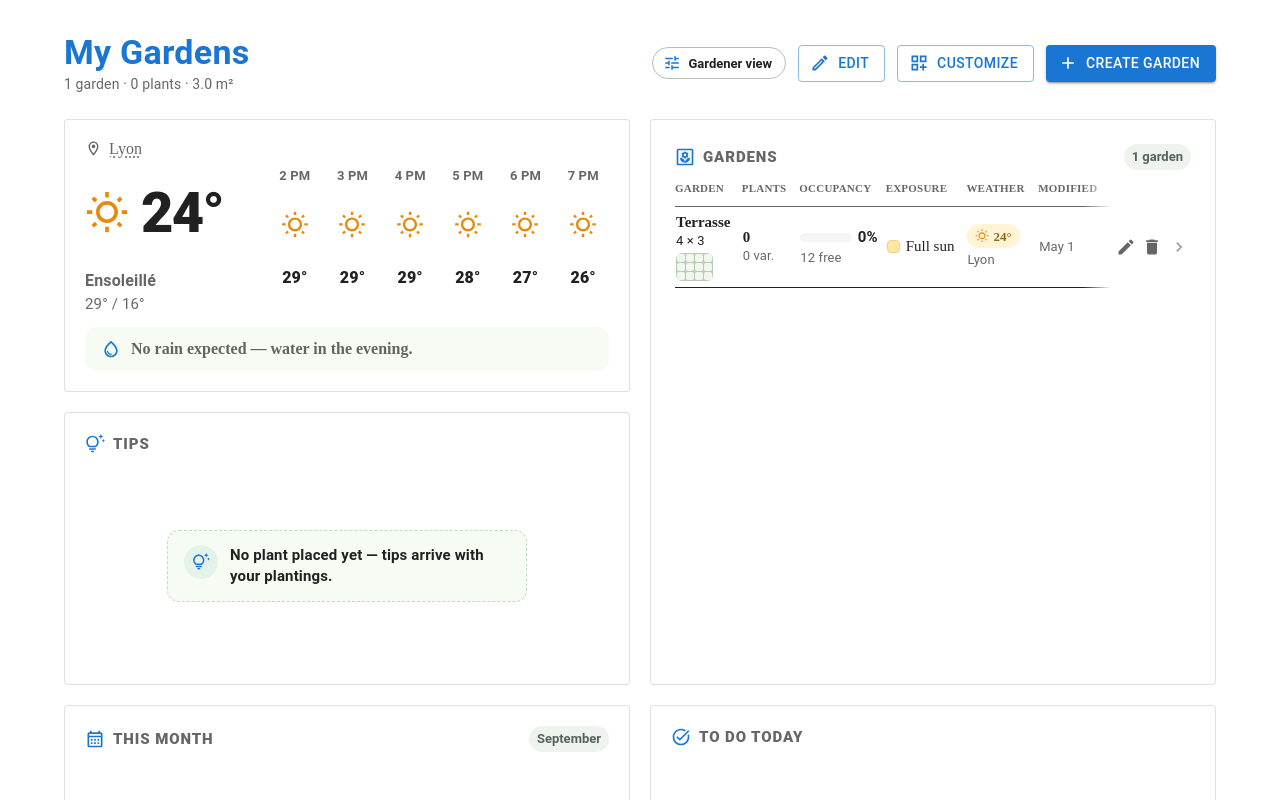
Test: GardensDashboard — Edit mode chrome (SMA-336) › the Weather gear says a default EXISTS when every garden overrides it, not « no place saved » (round 2, D5)
Click the button "Edit": {"x": 842, "y": 63} [798, 45, 885, 82]
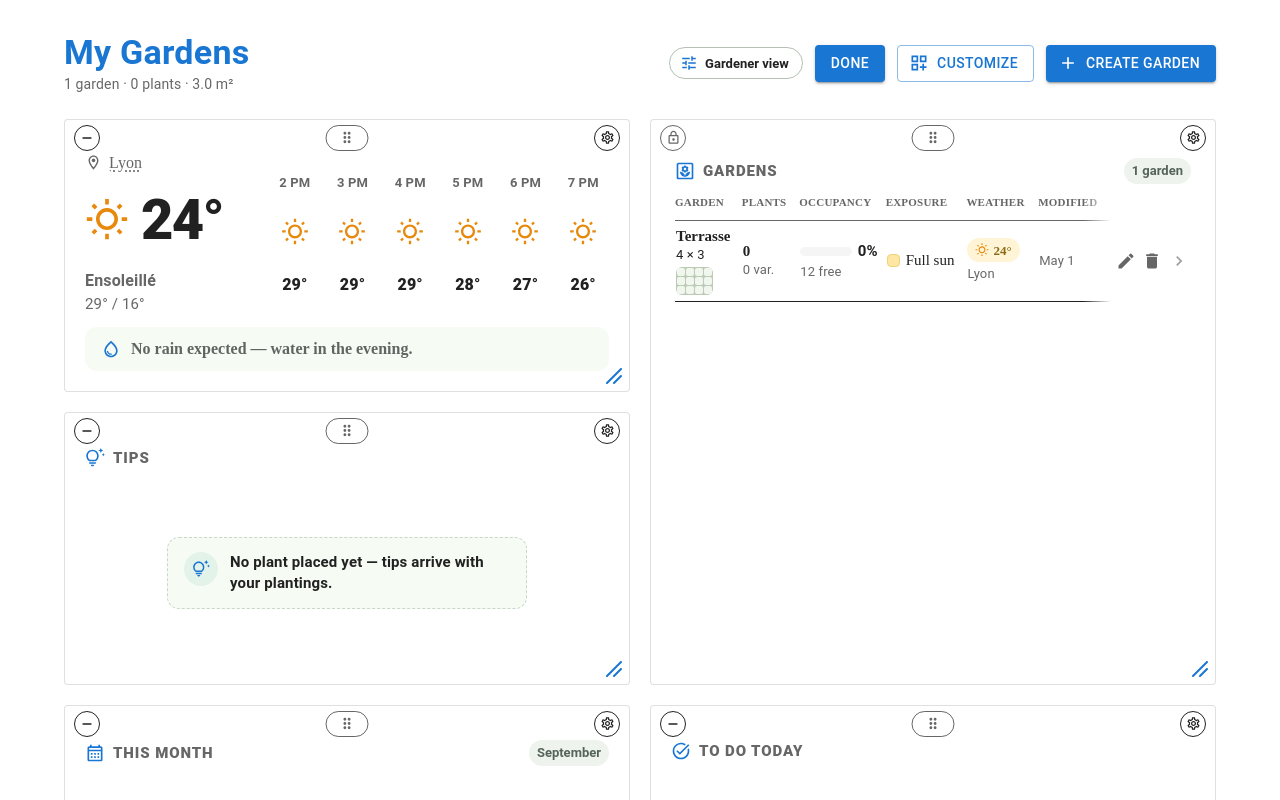
Click the button named "Weather options": {"x": 607, "y": 138} [594, 125, 620, 151]
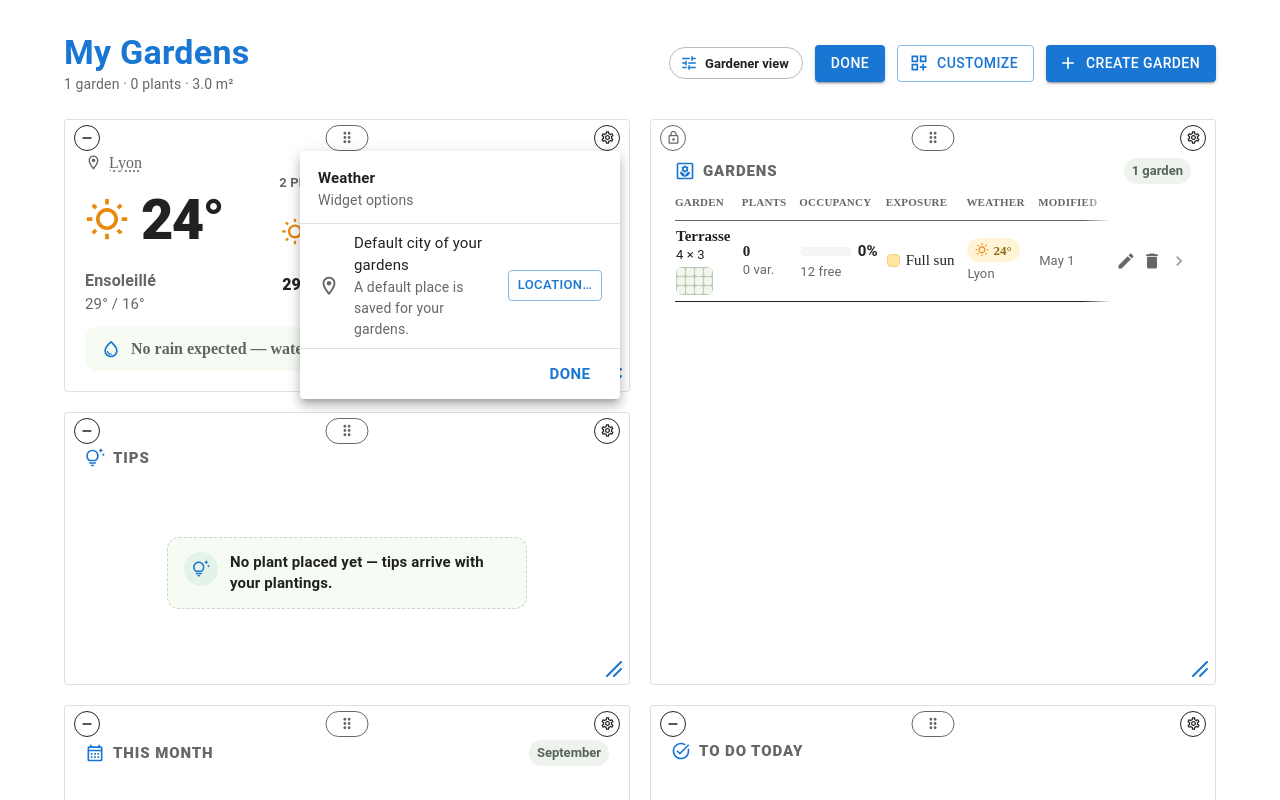
Expected: the text "A default place is saved for your gardens." is shown, [354, 278, 464, 336]
